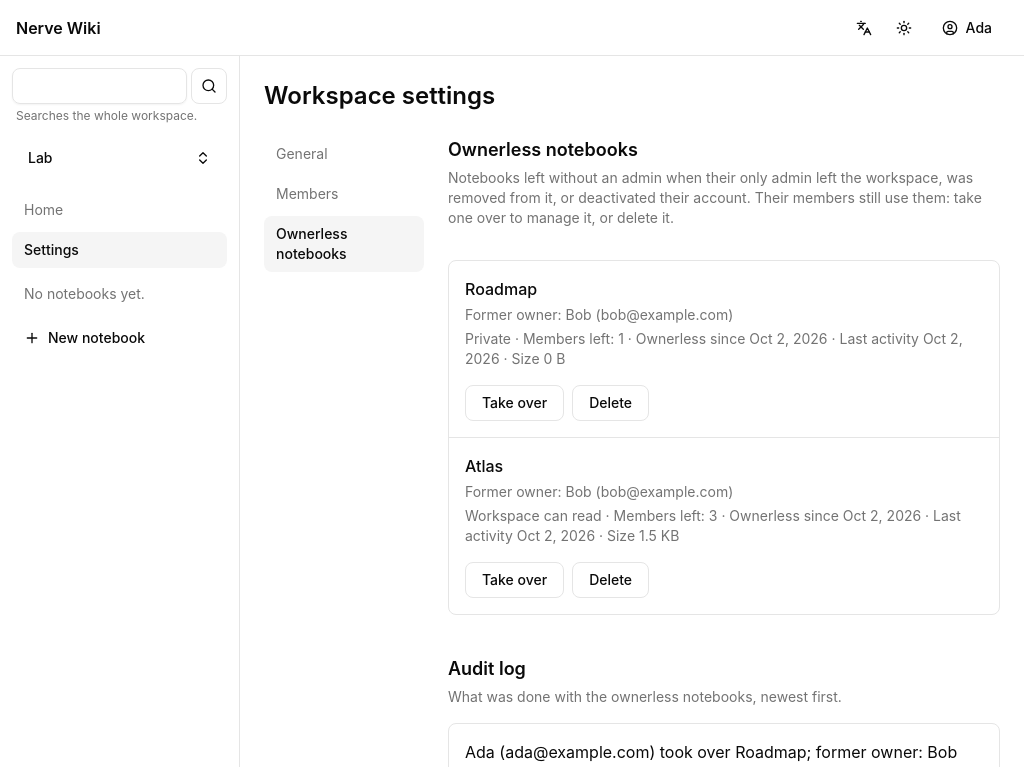
it: a take-over goes out once, however often it is pressed
The image size is (1024, 767).
Double-click the 1st button "Take over" at [515, 403], box [465,385,564,421]
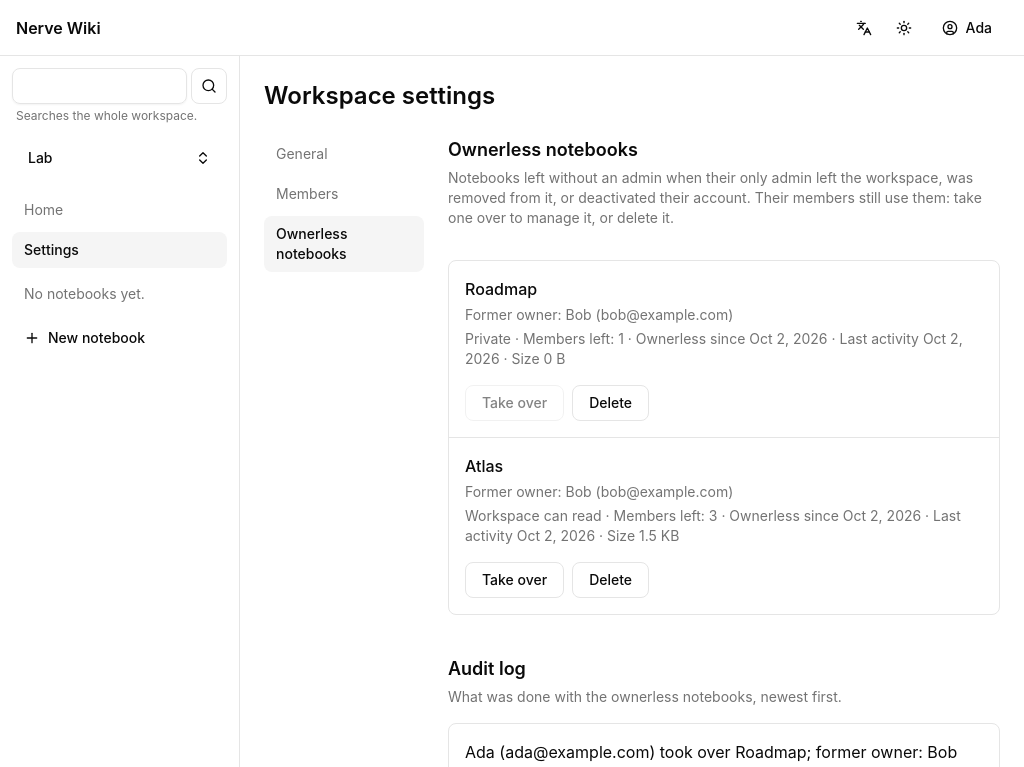
Click the 1st button "Take over" at [515, 403], box [465,385,564,421]
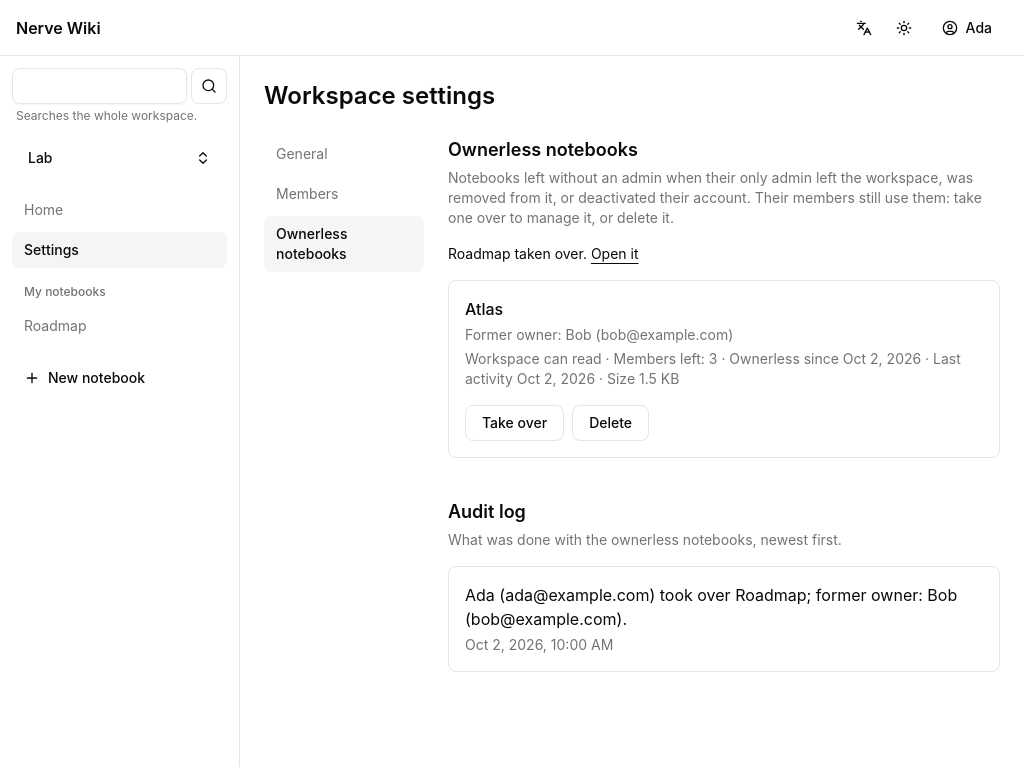
Expected: the element showing "Roadmap taken over. Open it" is shown, [448,245,638,262]
